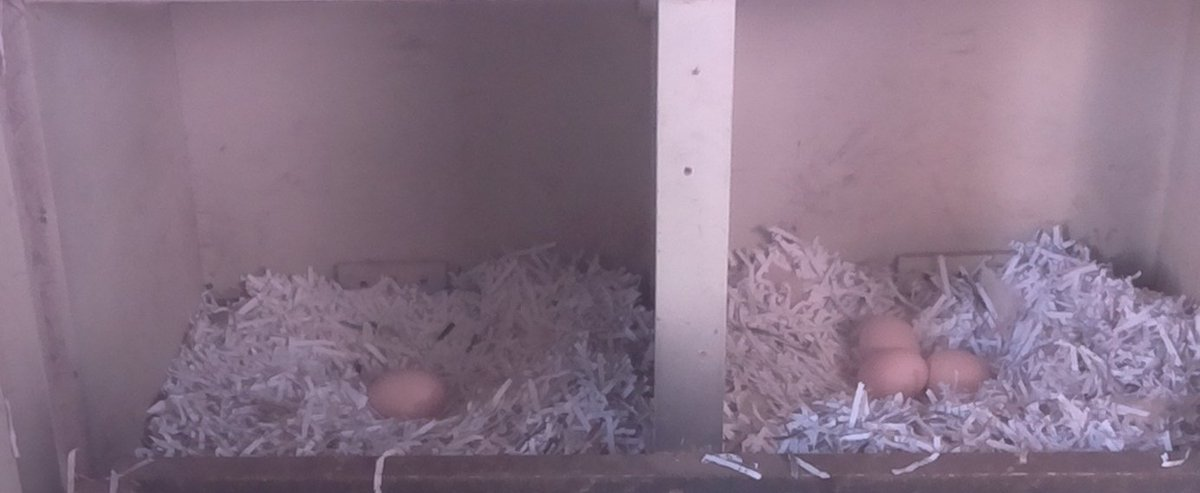egg: (364, 363, 448, 424), (922, 341, 994, 410), (855, 346, 931, 406), (844, 311, 927, 359)
